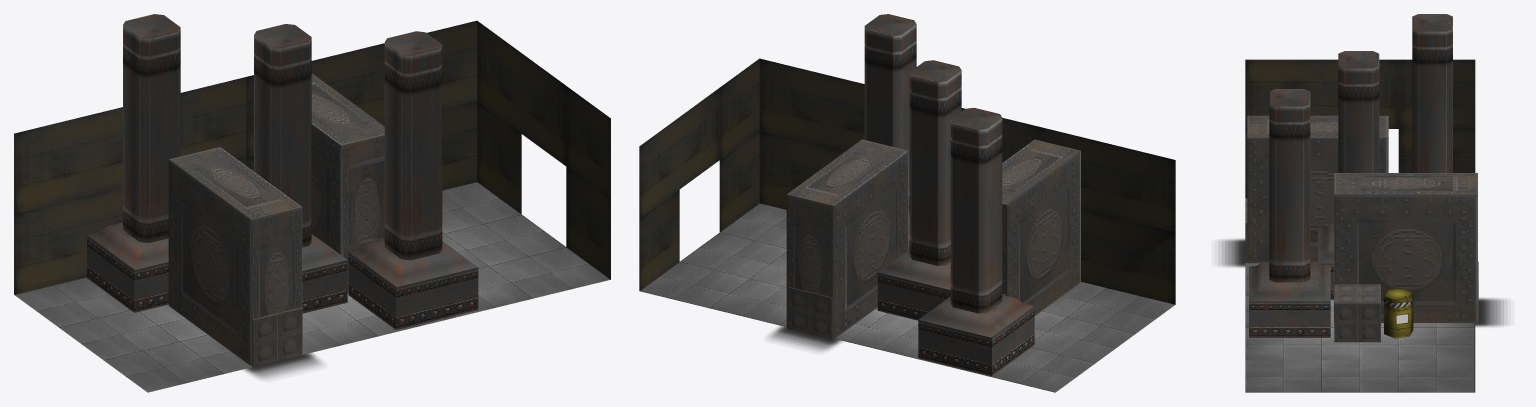
Rendered from room_3.glb.
The picture shows the model from 3 angles, left to right: view 1: azimuth 30°, elevation 25°; view 2: azimuth 150°, elevation 25°; view 3: azimuth 270°, elevation 25°; orthographic projection. The views are drawn at different scales.
Parts seen in each view (by area): view 1: wall, shaft (×3), CBMetalBoxSides (×3), floor, head (×3), CBMetalBoxTop (×2), CBMetalBoxShadow; view 2: wall, shaft (×3), CBMetalBoxSides (×3), floor, head (×2), CBMetalBoxTop (×2), CBMetalBoxShadow; view 3: CBMetalBoxSides (×3), shaft (×3), floor, wall, head (×2), CBMetalBoxTop (×3), CBMetalBoxShadow (×2), gagTank1.
Part boxes in pixels (<box>): wall: <box>14,20,610,294</box>; shaft (×3): <box>123,14,442,260</box>; CBMetalBoxSides (×3): <box>168,124,384,366</box>; floor: <box>14,182,610,392</box>; head (×3): <box>87,222,478,329</box>; CBMetalBoxTop (×2): <box>169,73,384,219</box>; CBMetalBoxShadow: <box>245,353,321,378</box>; wall: <box>639,58,1175,304</box>; shaft (×3): <box>864,14,1002,313</box>; CBMetalBoxSides (×3): <box>786,151,1080,339</box>; floor: <box>640,203,1174,392</box>; head (×2): <box>877,249,1034,375</box>; CBMetalBoxTop (×2): <box>787,139,1080,205</box>; CBMetalBoxShadow: <box>769,326,841,351</box>; CBMetalBoxSides (×3): <box>1247,137,1477,342</box>; shaft (×3): <box>1269,14,1452,282</box>; floor: <box>1245,198,1475,392</box>; wall: <box>1245,59,1475,198</box>; head (×2): <box>1249,224,1334,337</box>; CBMetalBoxTop (×3): <box>1247,115,1477,303</box>; CBMetalBoxShadow (×2): <box>1218,239,1506,326</box>; gagTank1: <box>1384,288,1413,338</box>.
Bounding box in the file's own units: 90 × 48.22 × 62.04.
14 materials, 13 textured.
